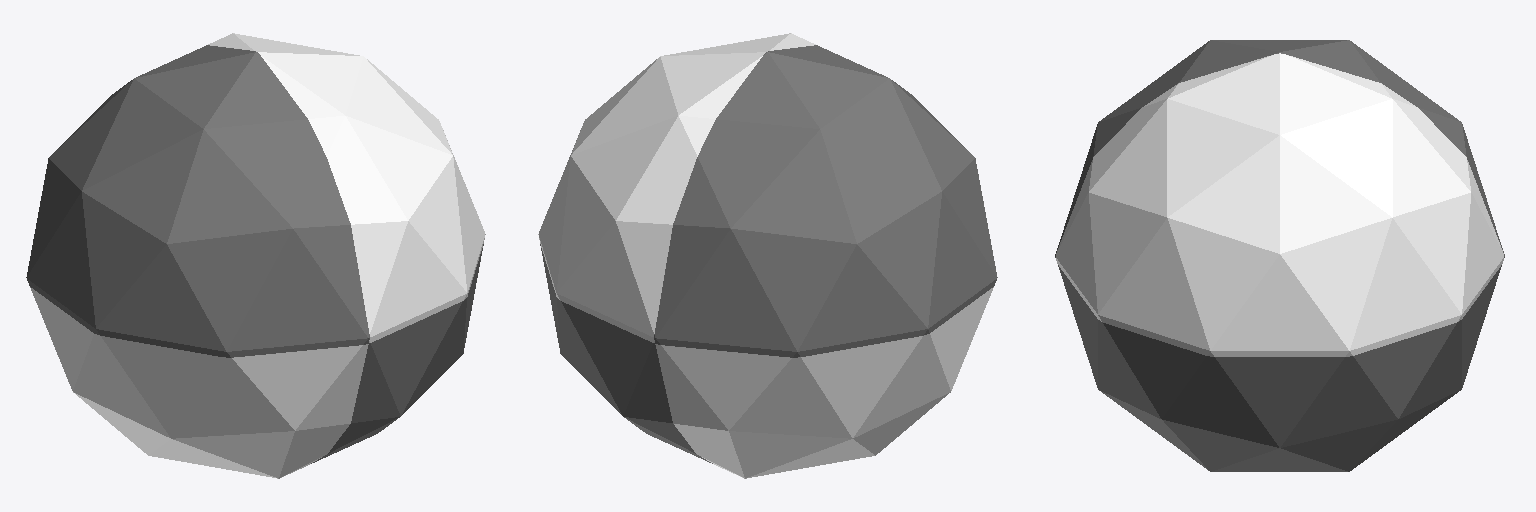
The picture shows the model from 3 angles: view 1: azimuth 30°, elevation 25°; view 2: azimuth 150°, elevation 25°; view 3: azimuth 270°, elevation 25°; orthographic projection.
Visible parts, largest first — view 1: Icosphere; view 2: Icosphere; view 3: Icosphere.
Boxes of the visible parts, x1,y1,x2,y2 form: Icosphere: [26, 33, 485, 478]; Icosphere: [538, 33, 997, 478]; Icosphere: [1055, 40, 1504, 471].
Size of the model in its own units: 200 by 200 by 200.
Materials: 1 (1 with a texture image).